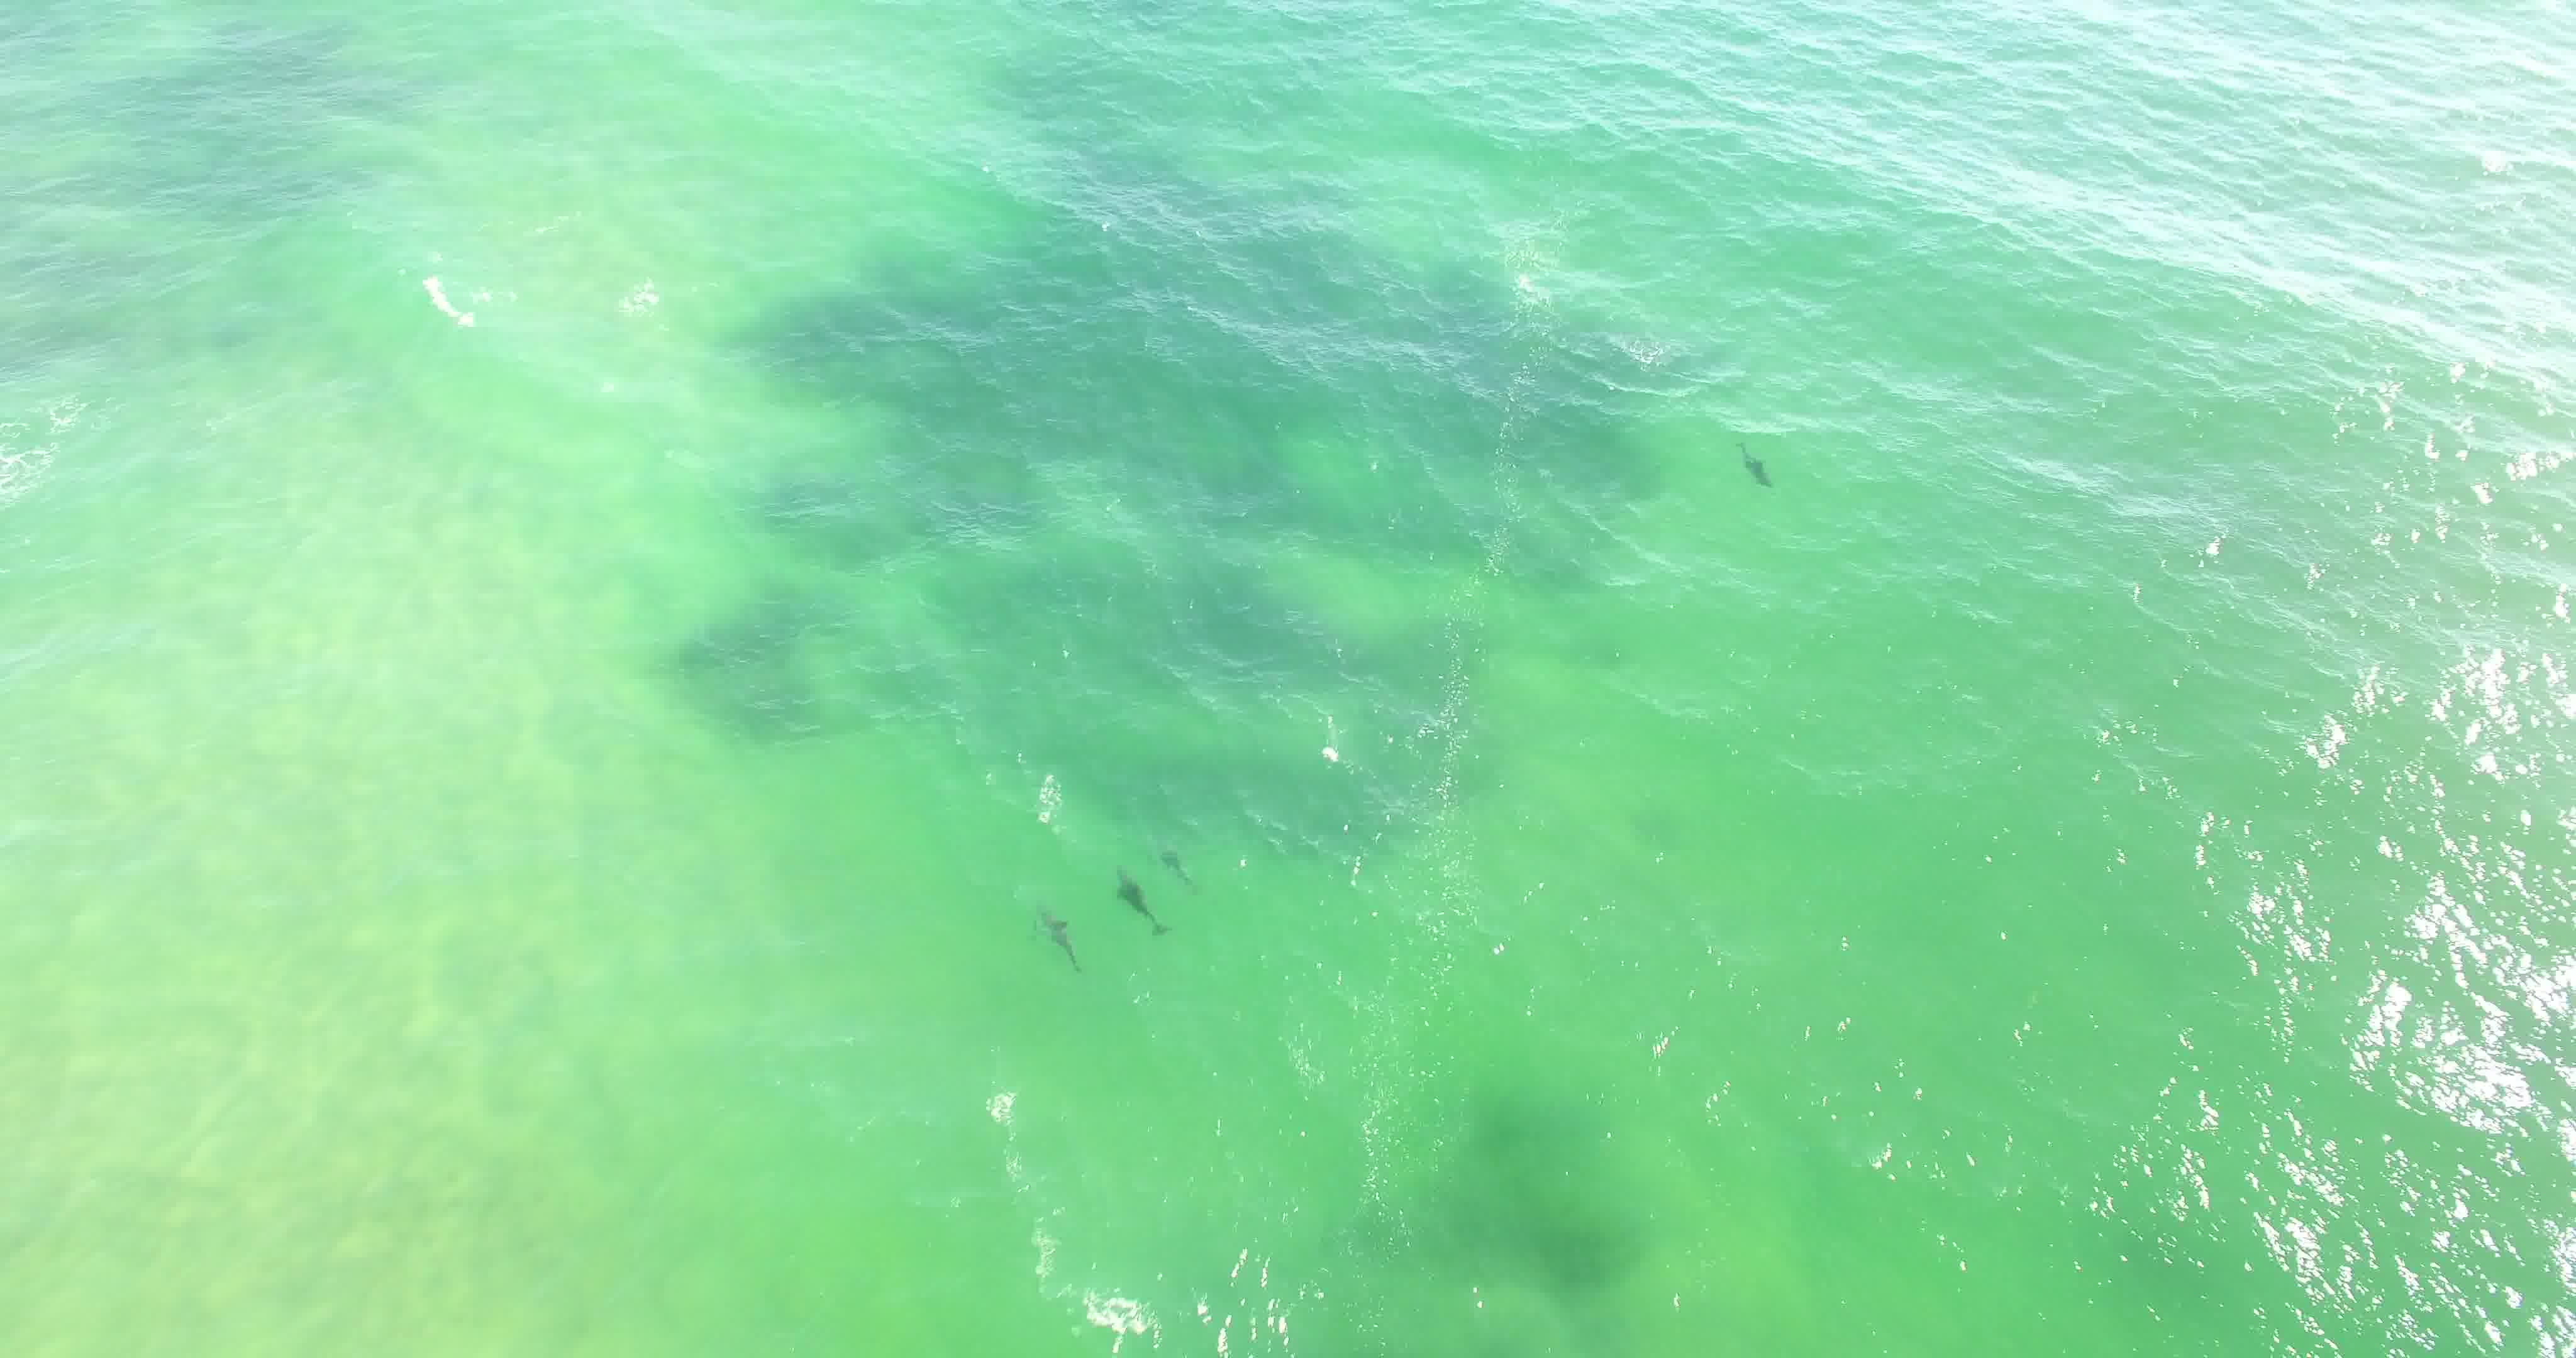dolphin: (1094, 854, 1182, 947), (1022, 889, 1104, 987), (1717, 423, 1791, 506), (1140, 828, 1211, 895)
